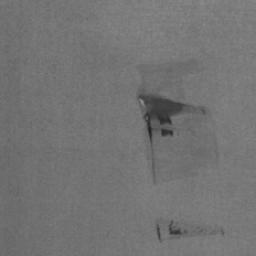Rolled pit: (137, 60, 218, 184), (156, 220, 224, 241)
